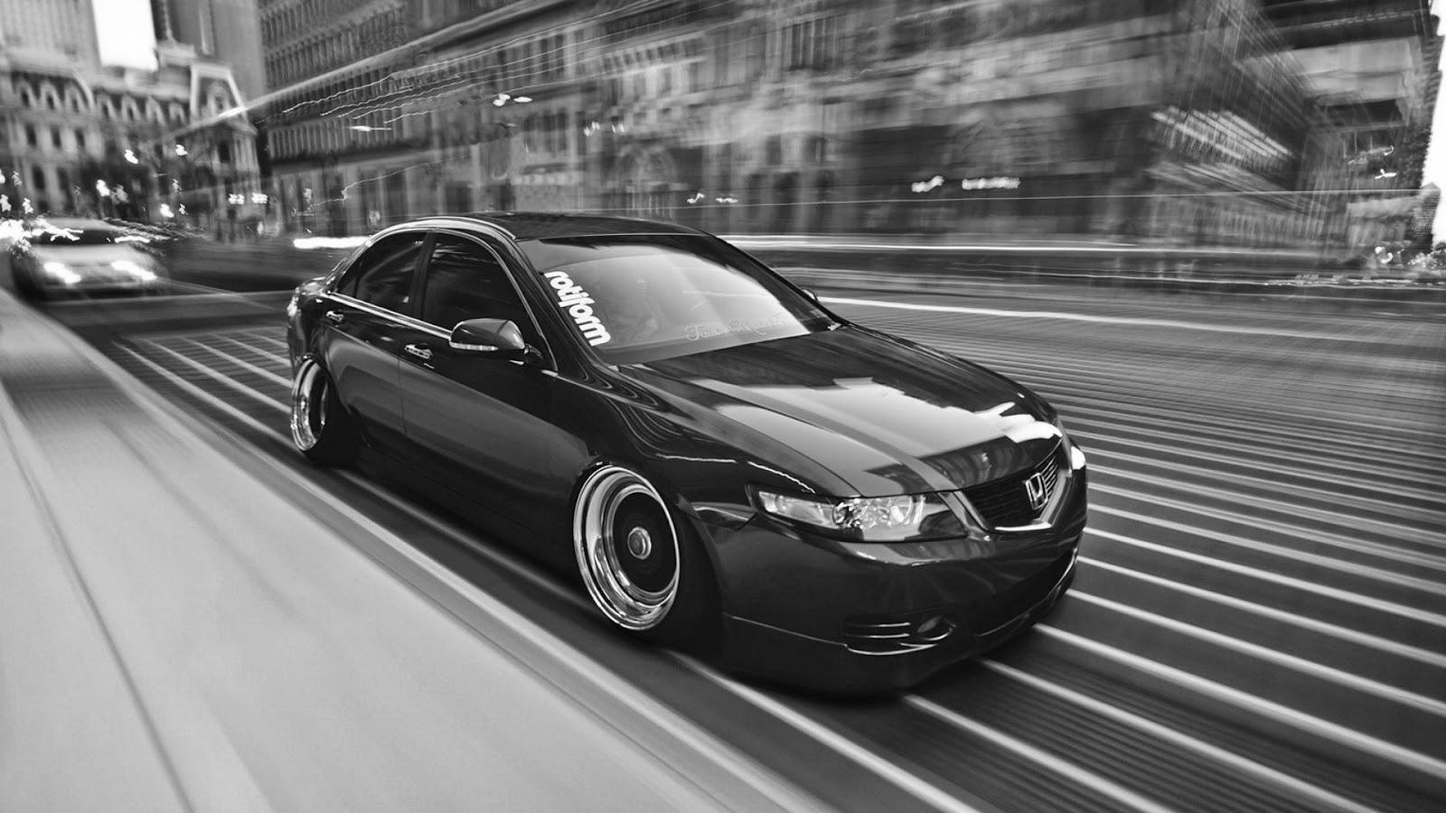Car hood: (616, 320, 1069, 502)
Driver-s door - -F-R-: (404, 220, 567, 547)
Fender - -F-R-: (568, 350, 759, 587)
Front bumper: (690, 525, 1118, 709)
Headlight - -L-: (1048, 409, 1087, 472)
Headlight - -R-: (743, 479, 974, 546)
Passenger-s door - -R-R-: (323, 218, 408, 468), (296, 306, 359, 434)
Rear bumper: (269, 312, 312, 401)
Rear light - -R-: (276, 271, 309, 318)
Side bumper - -R-: (327, 422, 587, 600)
Side mirror - -L-: (784, 280, 830, 315)
Side mirror - -R-: (442, 310, 532, 361)
